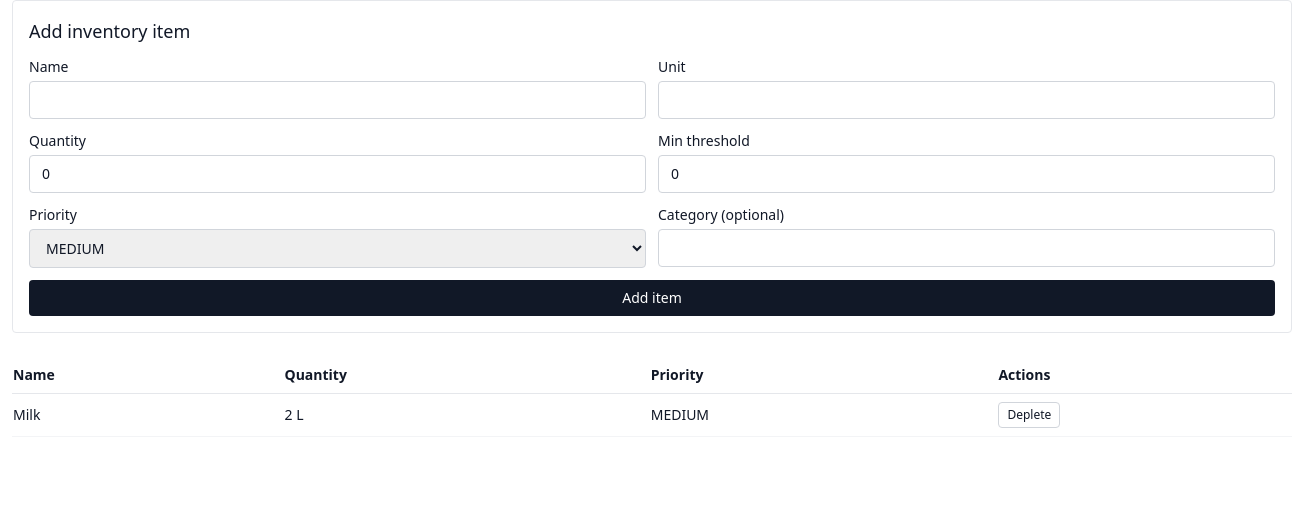
Scenario: Inventory dashboard › shows an error when deplete fails
The image size is (1292, 516).
Click the button "Deplete": coordinates (1029, 415) 998,402 -> 1060,428
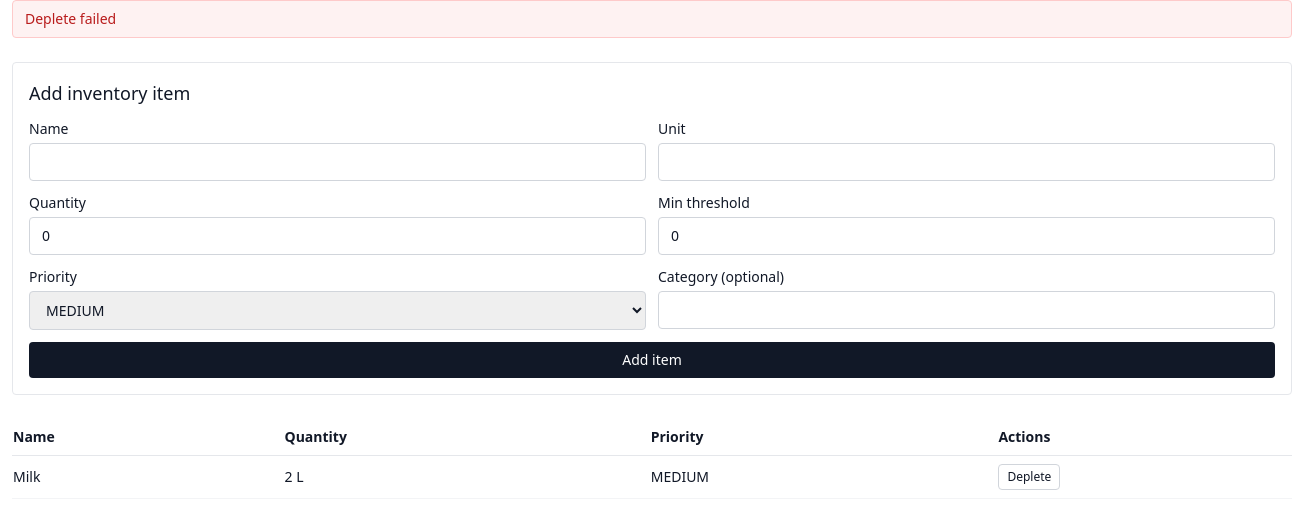
Expected: the message reads "Deplete failed", 25,9 -> 116,28
